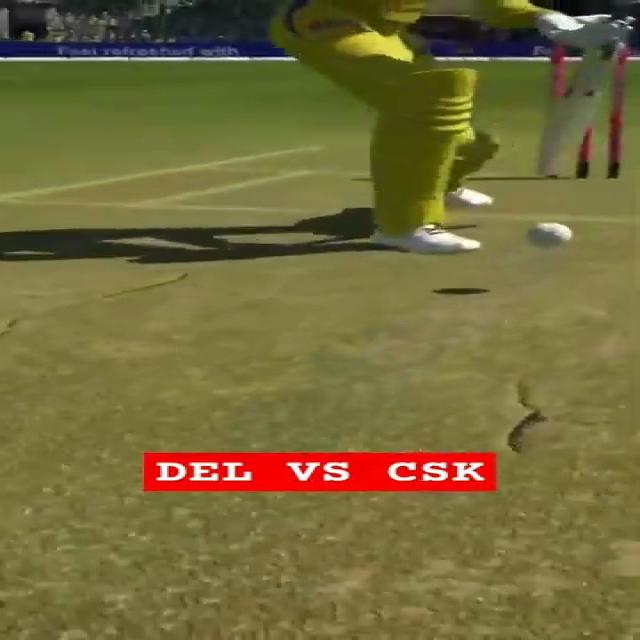ball: (523, 217, 574, 253)
